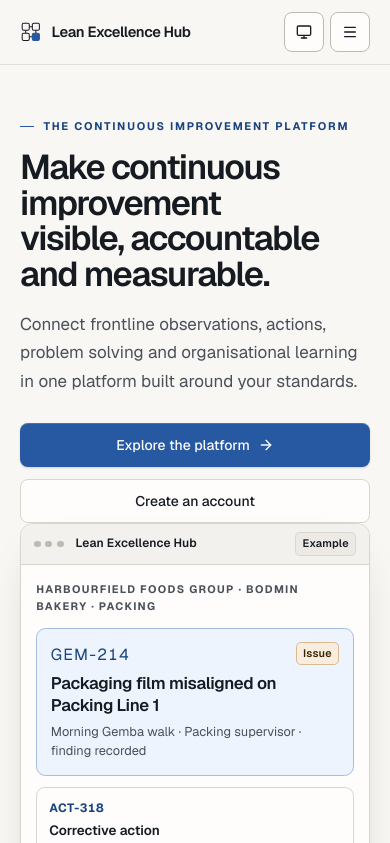
Test: public marketing homepage › exposes a labelled System / Light / Dark appearance control
Expected: the button named "Appearance: System" is shown, [284,12,324,52]
Expected: the icon with class "lucide-monitor" is shown, [296,24,312,40]
Click the button named "Open menu".
click(350, 32)  # box [330,12,370,52]
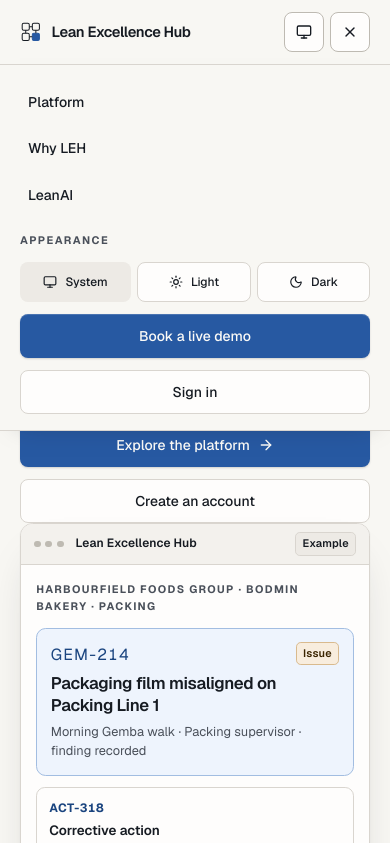
Now the button "Light" is shown, box [138,262,251,302]
Now the button "Dark" is shown, box [257,262,370,302]
